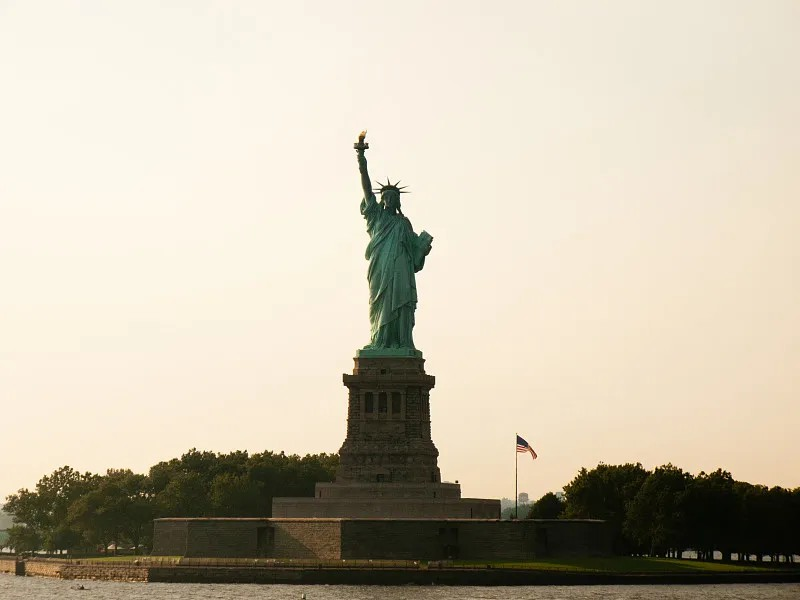SL: (335, 131, 441, 482)
